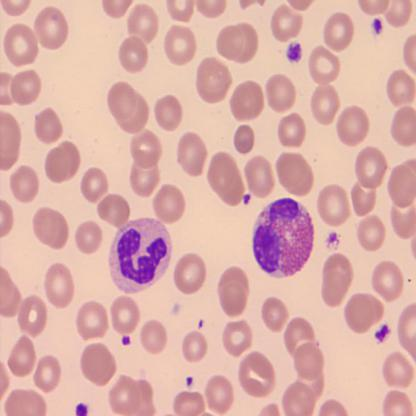Eosinophil: (251, 197, 315, 278)
